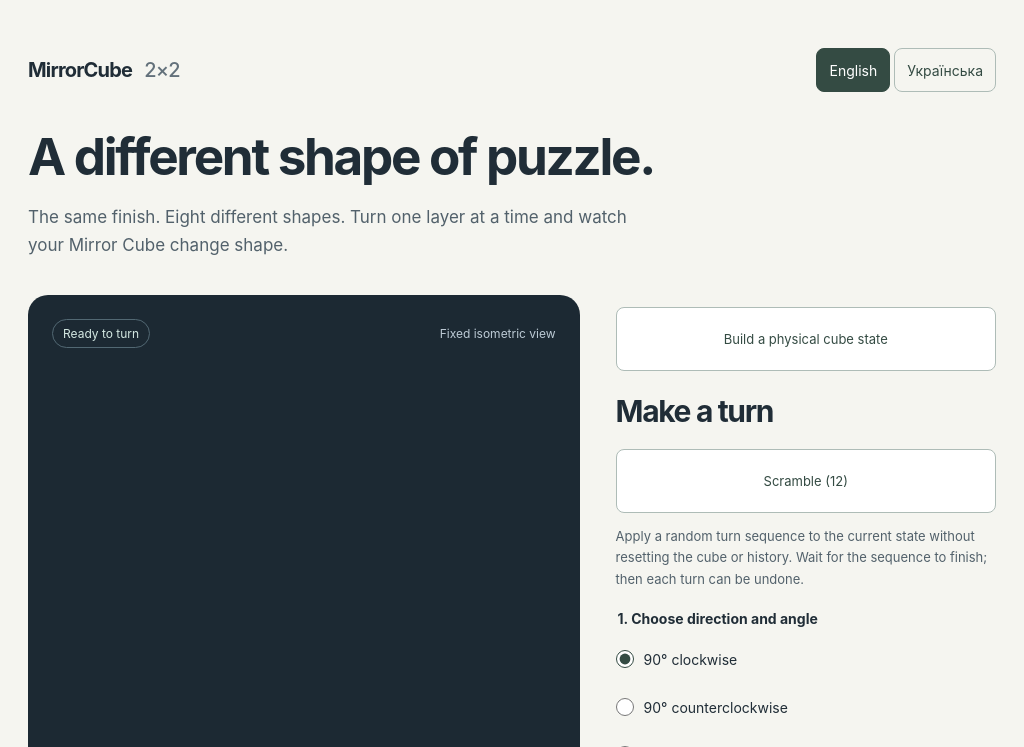
it: physical-state builder UI › retains drafts on scene failure, refuses apply, and permits cancellation without replacing the committed state
Click the button "Build a physical cube state" at (806, 339), box [616, 307, 996, 371]
(page scrolled)
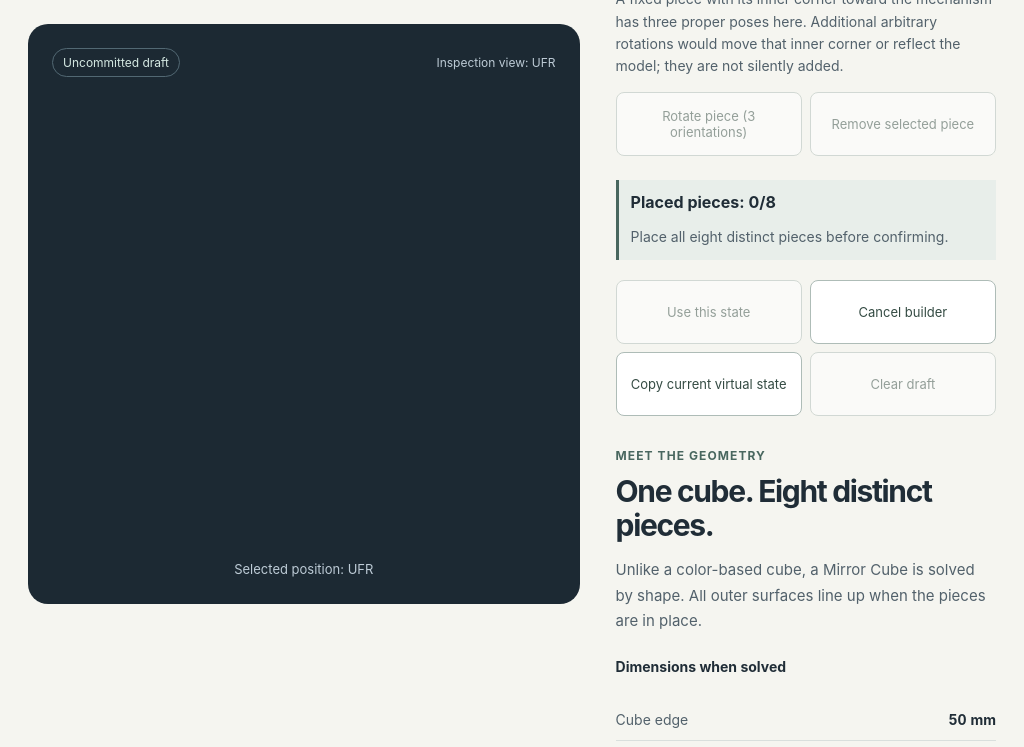
Click the button "Copy current virtual state" at (709, 384), box [616, 352, 802, 416]
(page scrolled)
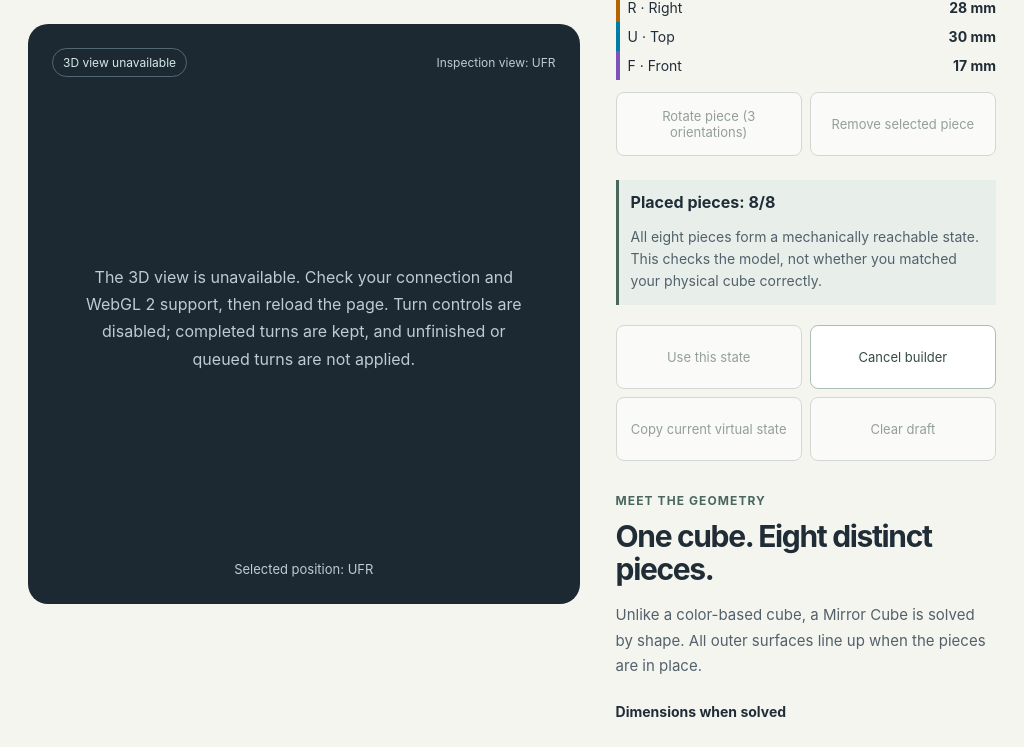
Click the button "Cancel builder" at (903, 357), box [810, 325, 996, 389]
(page scrolled)
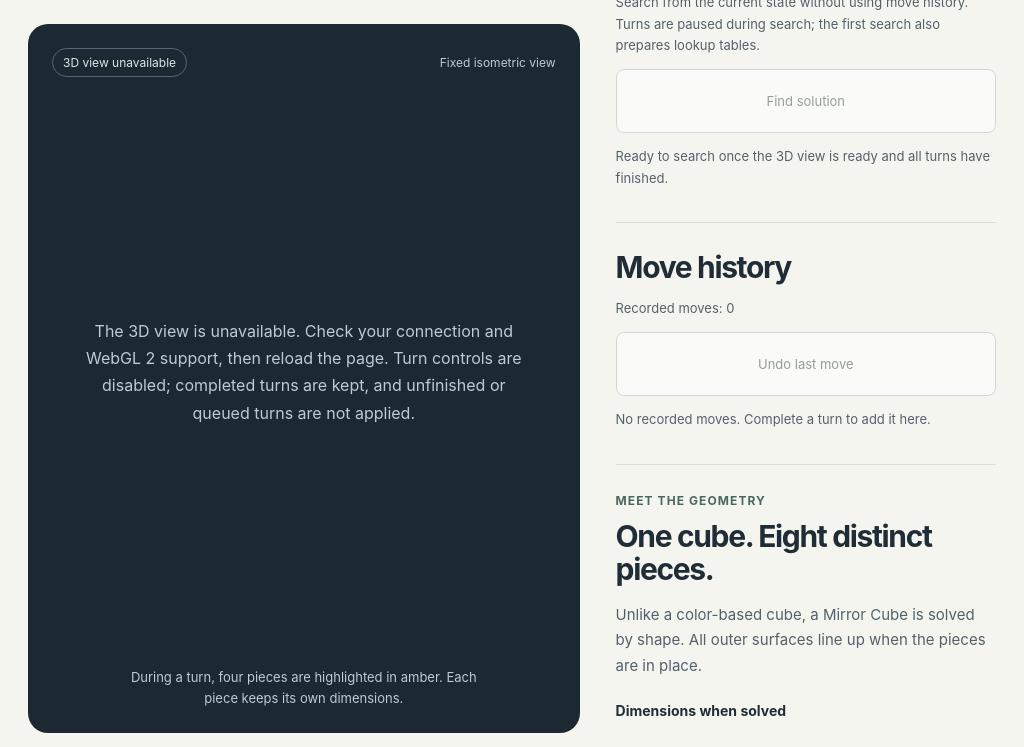
Check: the text "No recorded moves. Complete a turn to add it here." is shown, box [616, 411, 931, 427]
